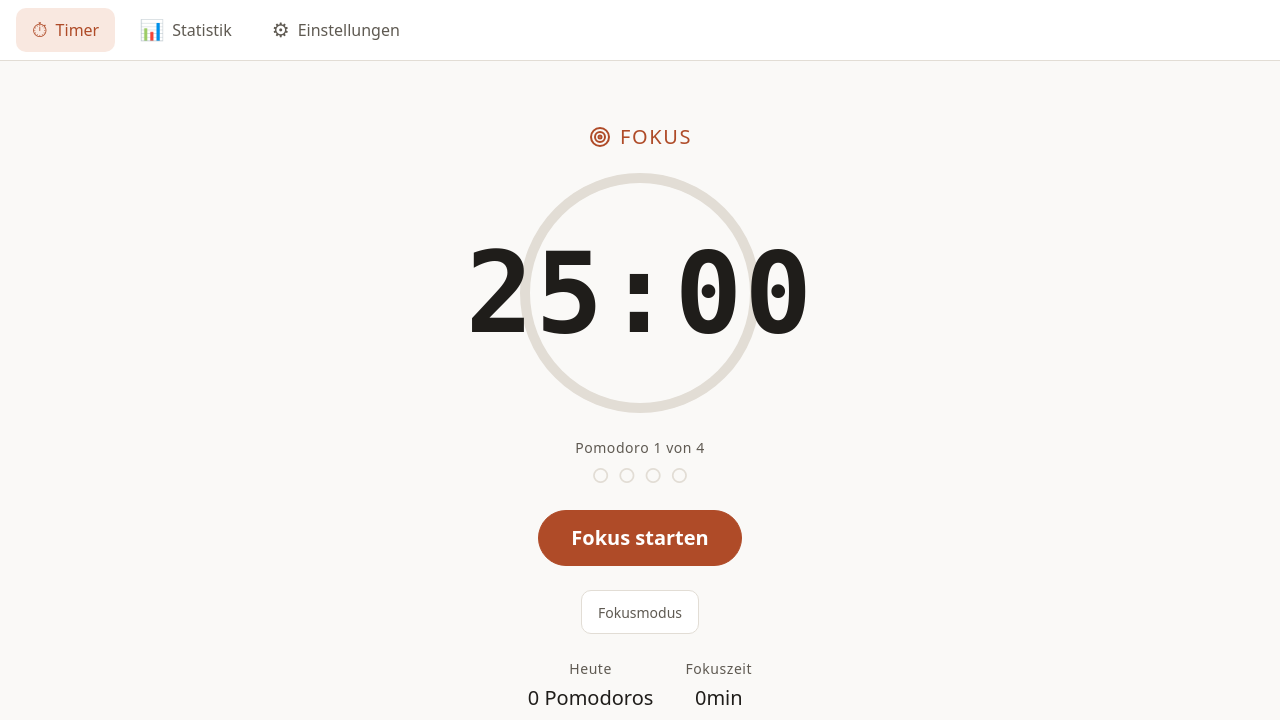
Test: App-Shell, Navigation und Routing › wechselt beim Klick auf „Einstellungen" zur Einstellungs-Ansicht und zurück zum Timer
Click the link "⚙ Einstellungen".
click(336, 30)  # box [272,16,400,43]
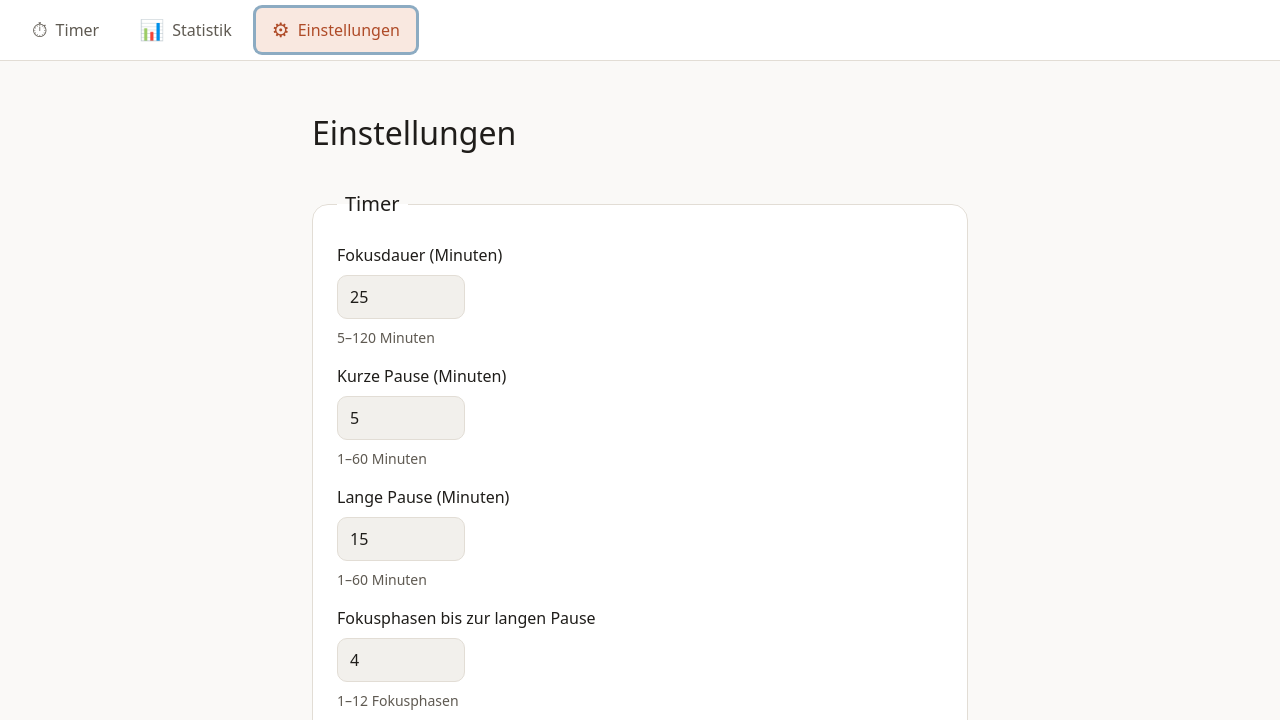
Click the link "⏱ Timer".
click(66, 30)  # box [32,16,99,43]
(page scrolled)
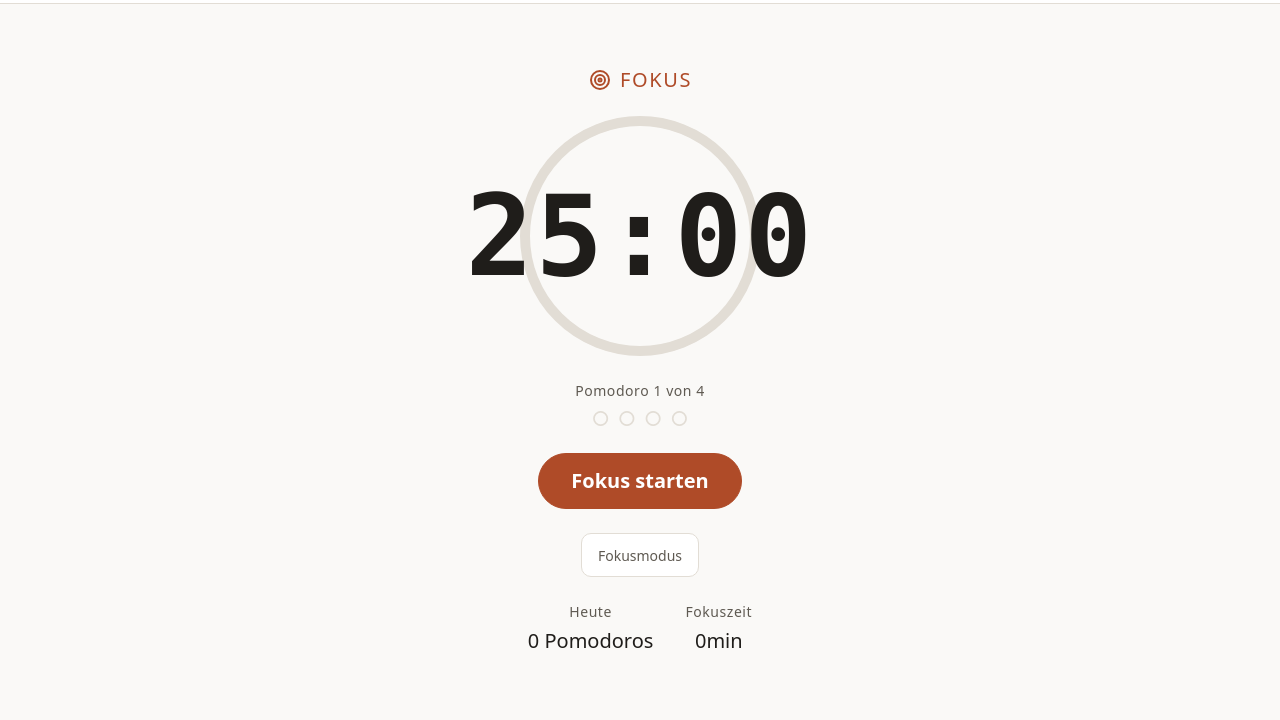
Expected: the element with test id "timer-view" is shown, [504,36,776,688]
